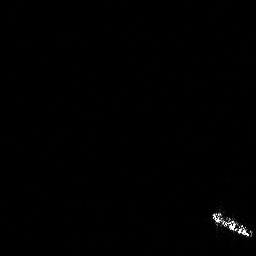ship: (207, 206, 256, 243)
